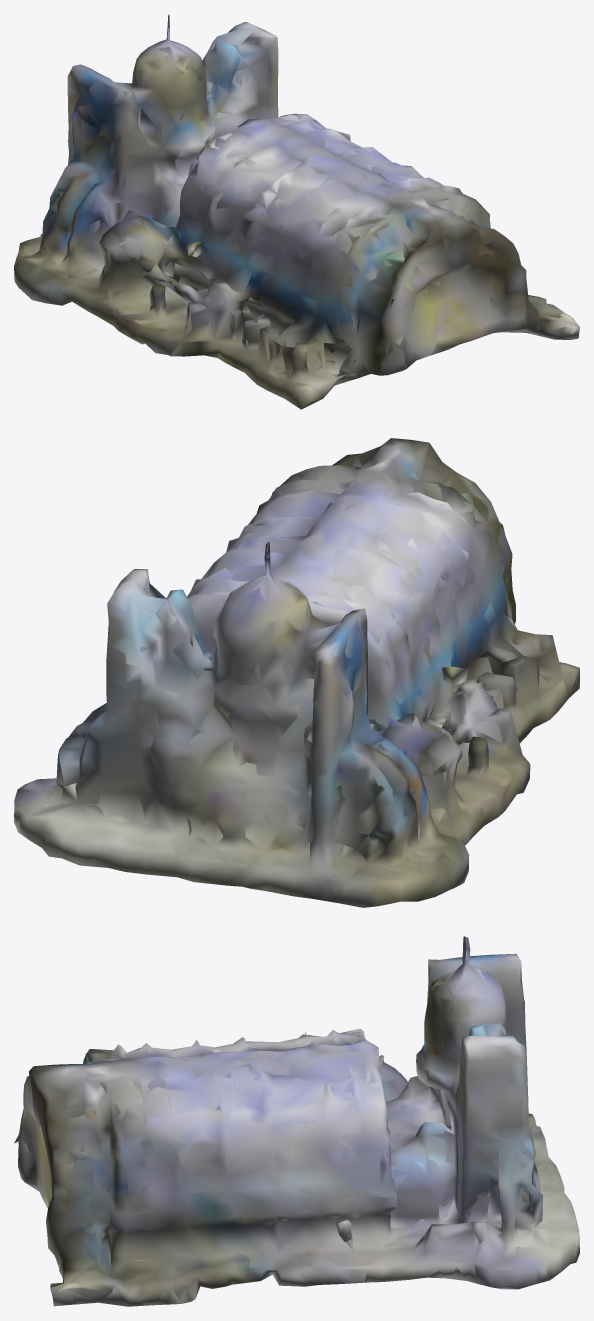
File: allied_war_factory.glb
3 views of the same model, one above another, from view 1: azimuth 30°, elevation 25°; view 2: azimuth 150°, elevation 25°; view 3: azimuth 270°, elevation 25° (orthographic). The views are drawn at different scales.
Parts seen in each view (by area): view 1: allied_war_factory; view 2: allied_war_factory; view 3: allied_war_factory.
Boxes of the visible parts, x1=… form: allied_war_factory: x1=14, y1=14, x2=579, y2=409; allied_war_factory: x1=14, y1=438, x2=579, y2=907; allied_war_factory: x1=14, y1=936, x2=579, y2=1306.
Size of the model in its own units: 1.77 by 1.12 by 2.18.
